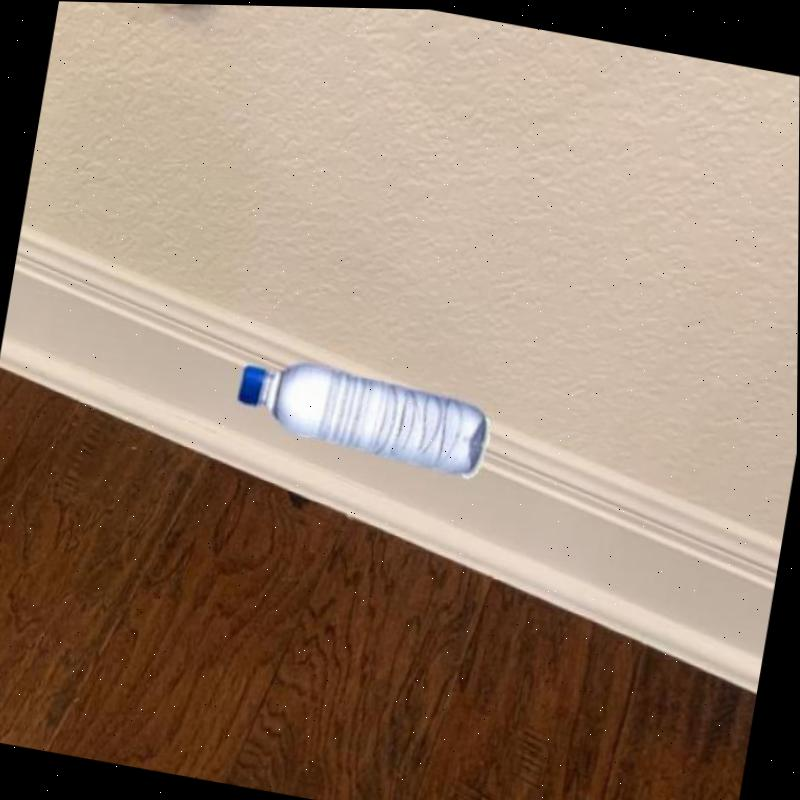botella: (231, 349, 492, 477)
